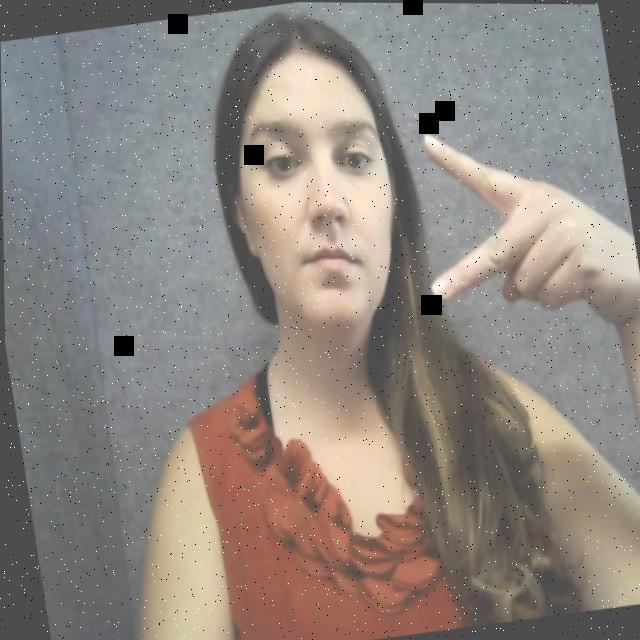Scissors: (388, 110, 640, 384)
